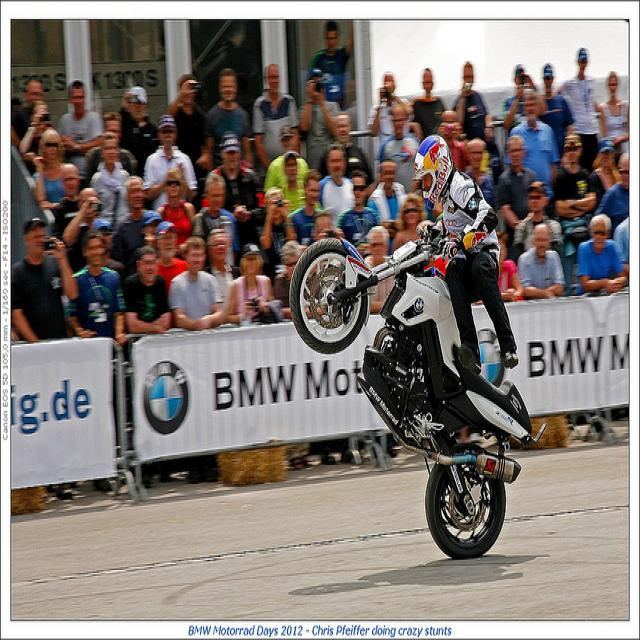motor: (291, 226, 548, 561)
